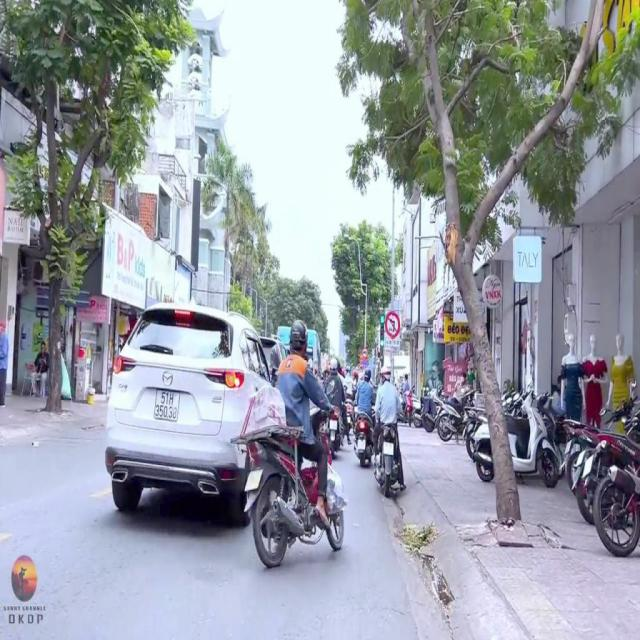cam_o_to_re_trai: (386, 311, 400, 339)
cam_o_to_tai: (362, 348, 368, 358)
